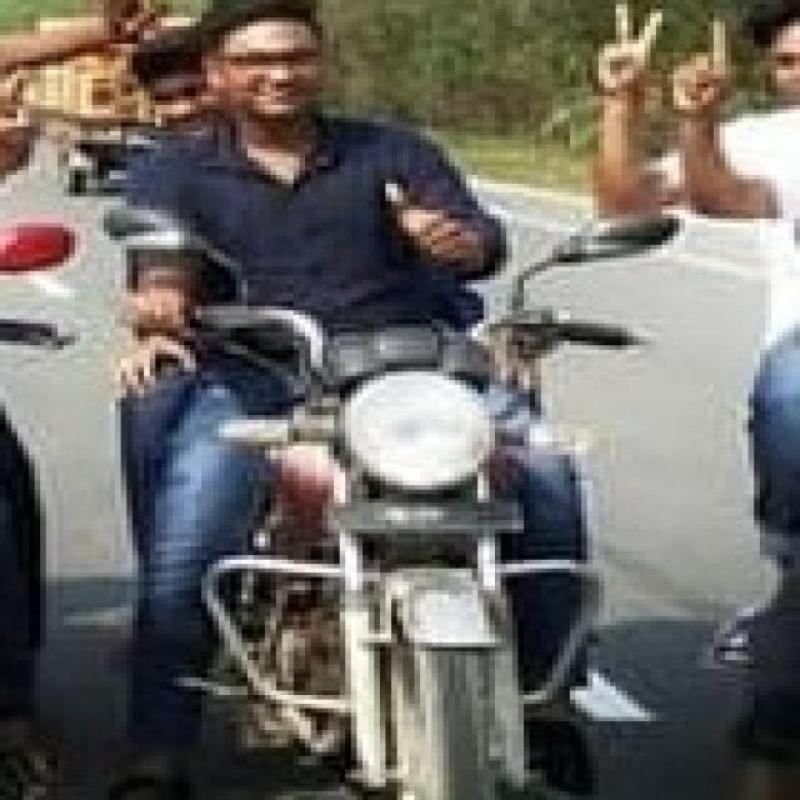nohelmet: (192, 4, 353, 138)
